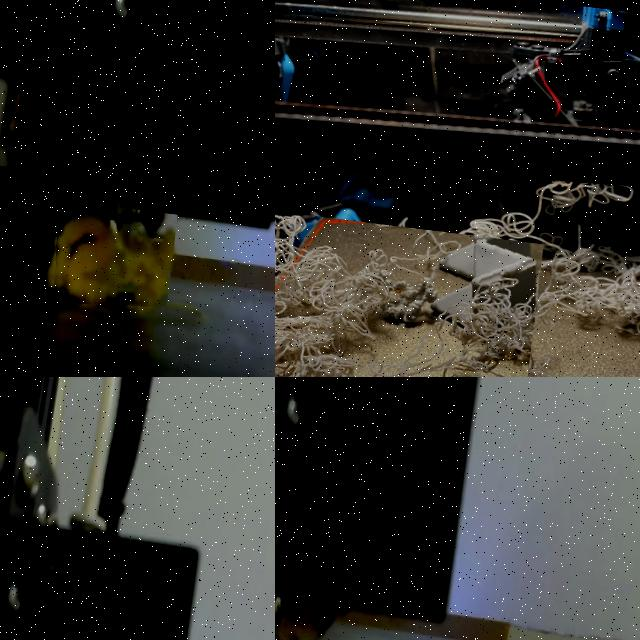spaghetti: (275, 217, 527, 377), (476, 165, 640, 377), (53, 207, 174, 305), (276, 603, 317, 640)
